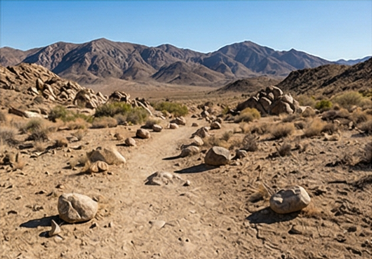rocks: (237, 86, 301, 115), (58, 193, 97, 222), (269, 186, 310, 213), (88, 148, 125, 167), (204, 146, 230, 165), (146, 172, 167, 184)
